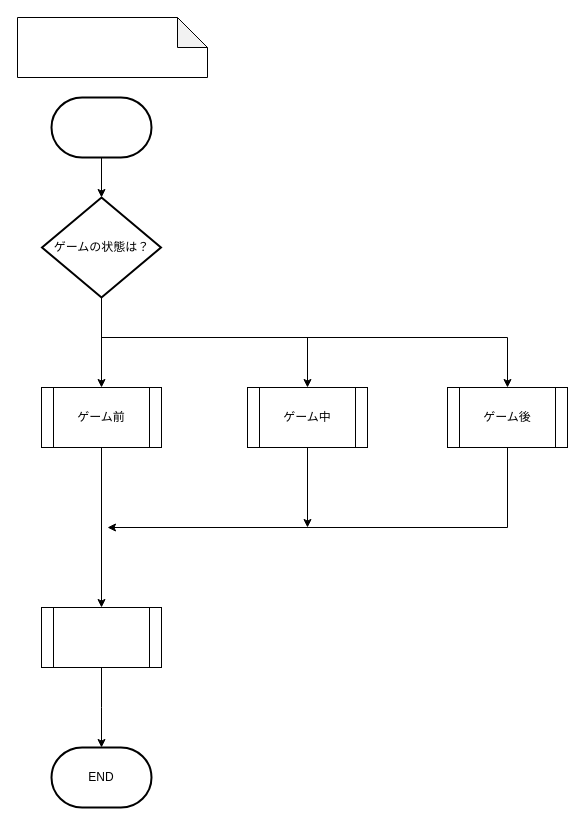
Some shapes in this 585 by 826 pixel diagram are drawn without their labels. The shapes that lost their labels are listed below. From the top down, each one's centre as x and y in pixels, then its label:
(x=112, y=47): main
(x=101, y=127): START
(x=101, y=637): LCDの 更新
